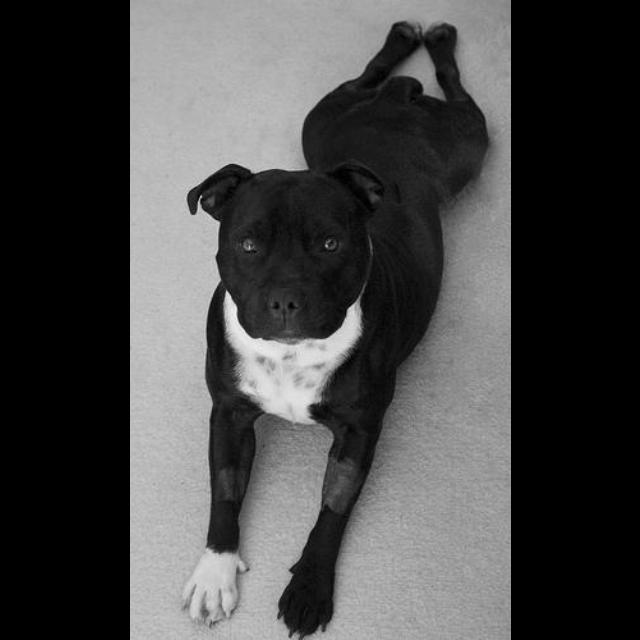staffford: (179, 19, 490, 639)
